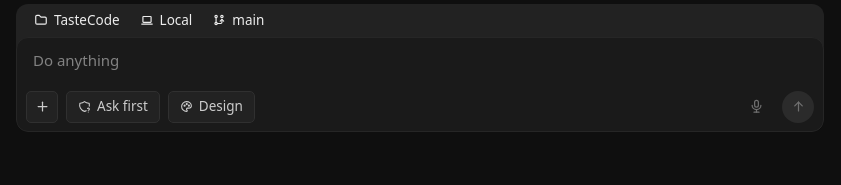
Composer voice dictation › shows an actionable microphone permission error
What coordinates should you click on to do the following:
click the button named "Record voice note"
I would click on:
 (756, 107)
Its box is x1=740 y1=91 x2=772 y2=123.
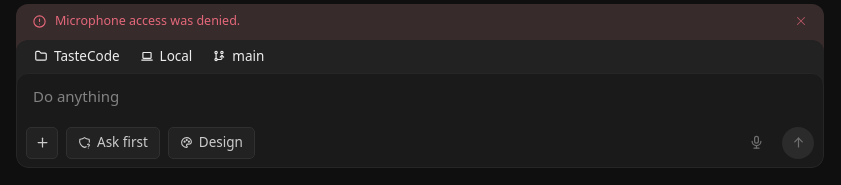
Now the message reads "Microphone access was denied.", box x1=55 y1=12 x2=240 y2=29
